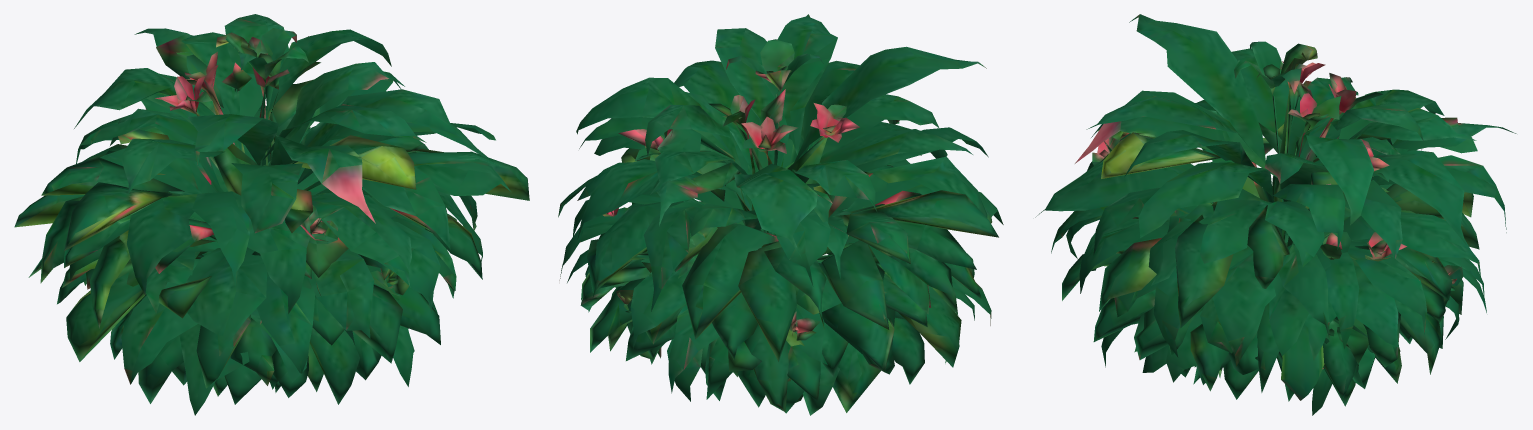
File: jungle_bush.glb
The picture shows the model from 3 angles, left to right: view 1: azimuth 30°, elevation 25°; view 2: azimuth 150°, elevation 25°; view 3: azimuth 270°, elevation 25°; orthographic projection. The views are drawn at different scales.
Bounding box in the file's own units: 0.9497 × 0.6606 × 0.9575.
1 material, 1 textured.
